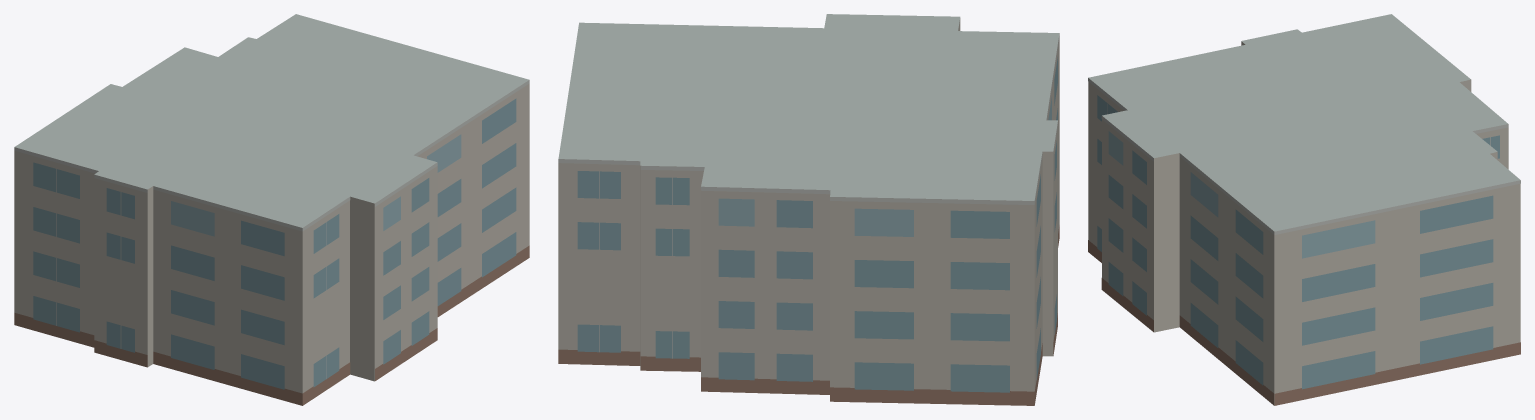
The model's file is survey-upis-32834389.glb.
The picture shows the model from 3 angles, left to right: view 1: azimuth 30°, elevation 25°; view 2: azimuth 150°, elevation 25°; view 3: azimuth 270°, elevation 25°; orthographic projection. The views are drawn at different scales.
Parts seen in each view (by area): view 1: survey-upis-32834389.tmp; view 2: survey-upis-32834389.tmp; view 3: survey-upis-32834389.tmp.
Boxes of the visible parts, x1=… form: survey-upis-32834389.tmp: x1=14, y1=14, x2=529, y2=405; survey-upis-32834389.tmp: x1=558, y1=14, x2=1059, y2=405; survey-upis-32834389.tmp: x1=1088, y1=14, x2=1520, y2=405.
Bounding box in the file's own units: 32.69 × 12.2 × 27.46.
